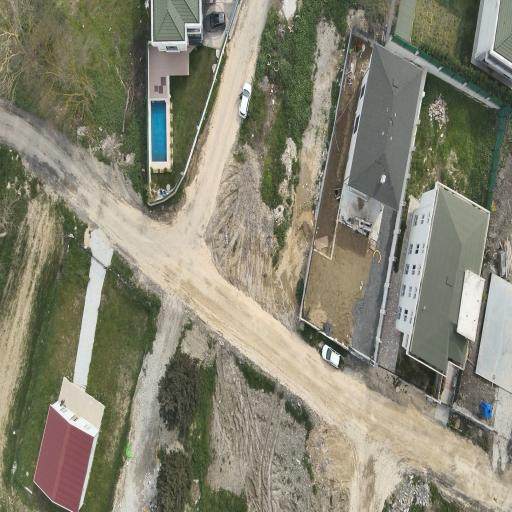car: (238, 82, 250, 117), (321, 344, 339, 366), (205, 11, 224, 30)
